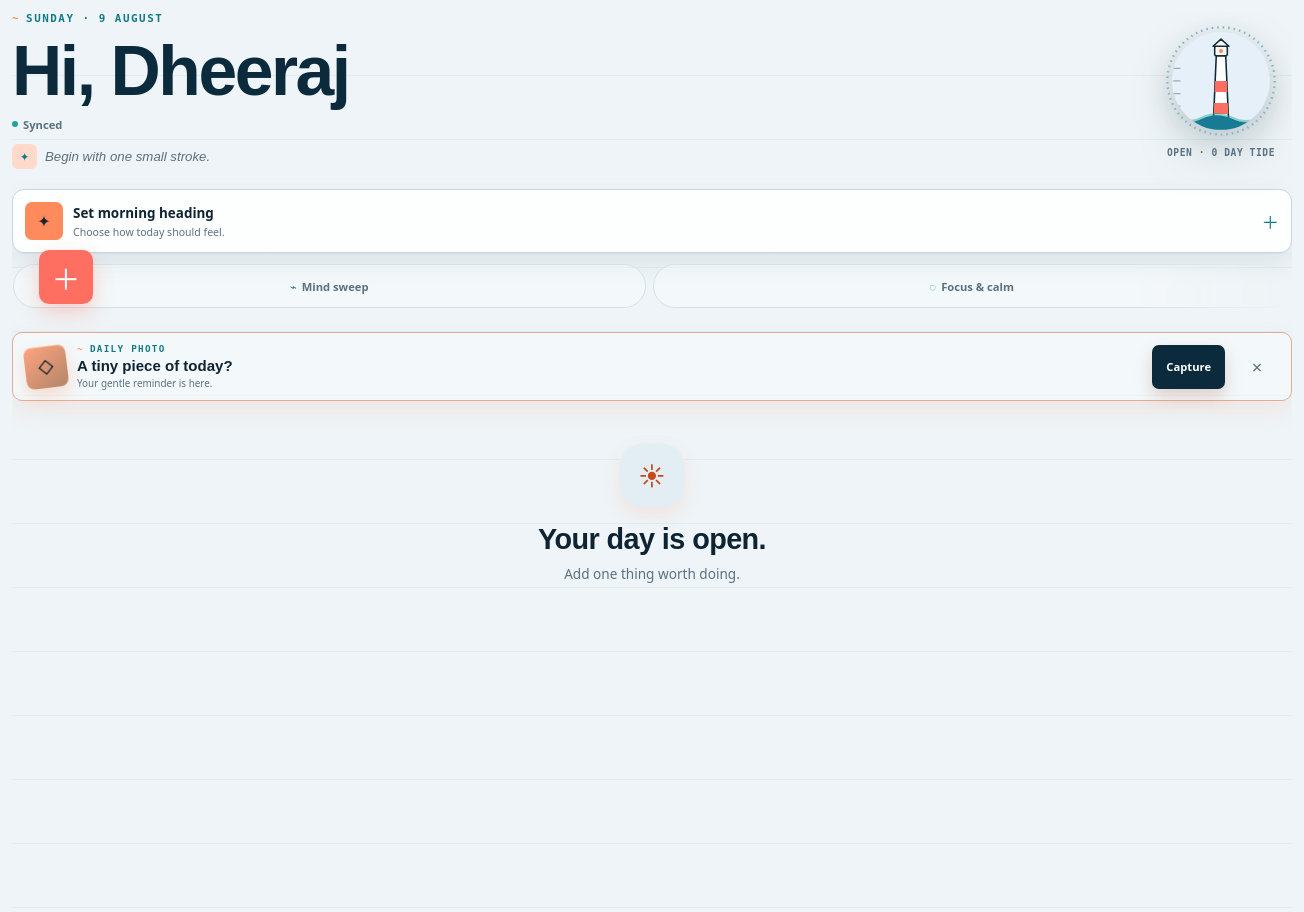
it: skips only the server-provided local date and collapses the prompt
Click the button named "Not today". click: coordinates (1257, 367)
box: [1235,345,1279,389]
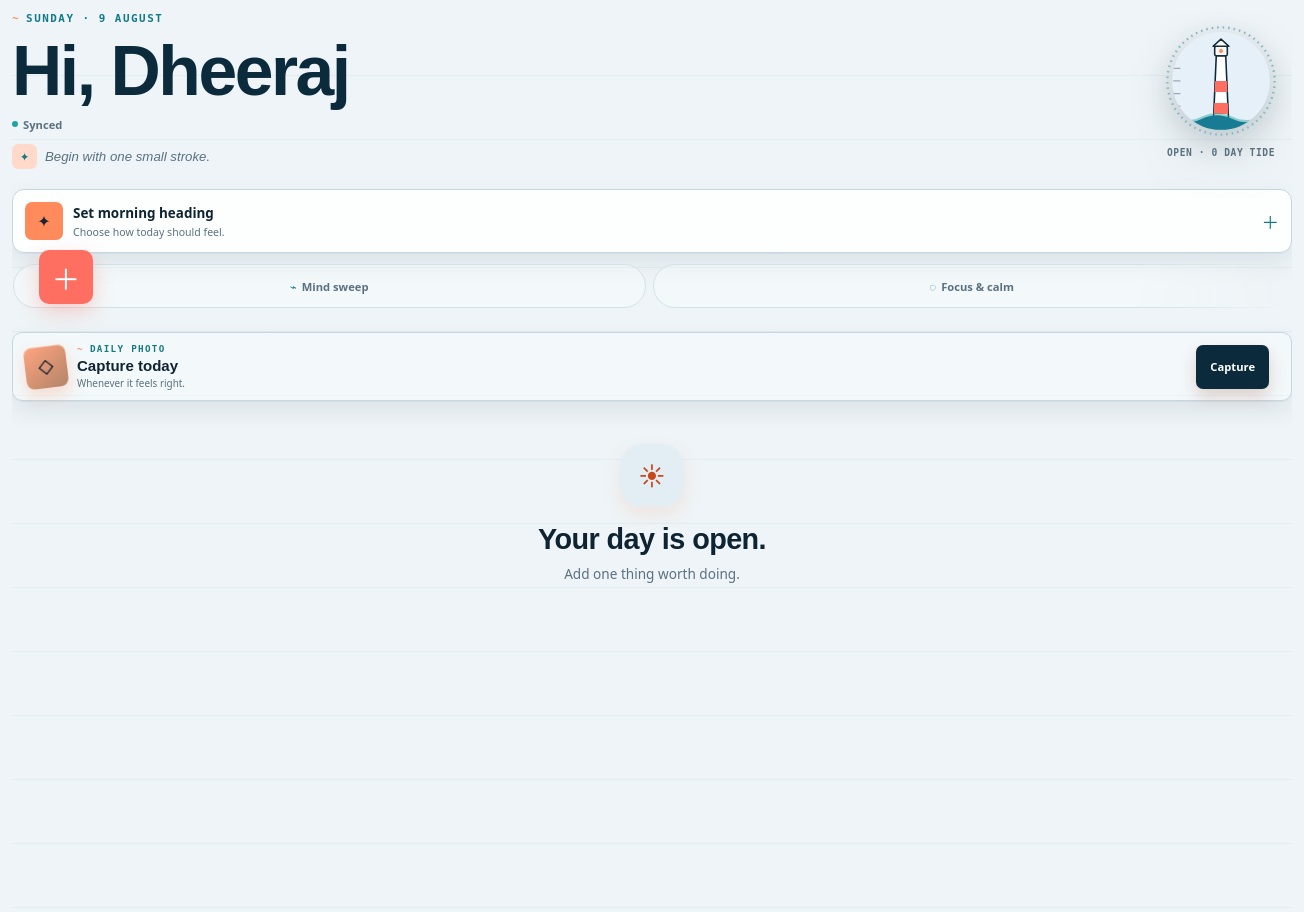
Now the text "A tiny piece of today?" is gone
Now the text "Capture today" is shown, box [77,358,178,374]
